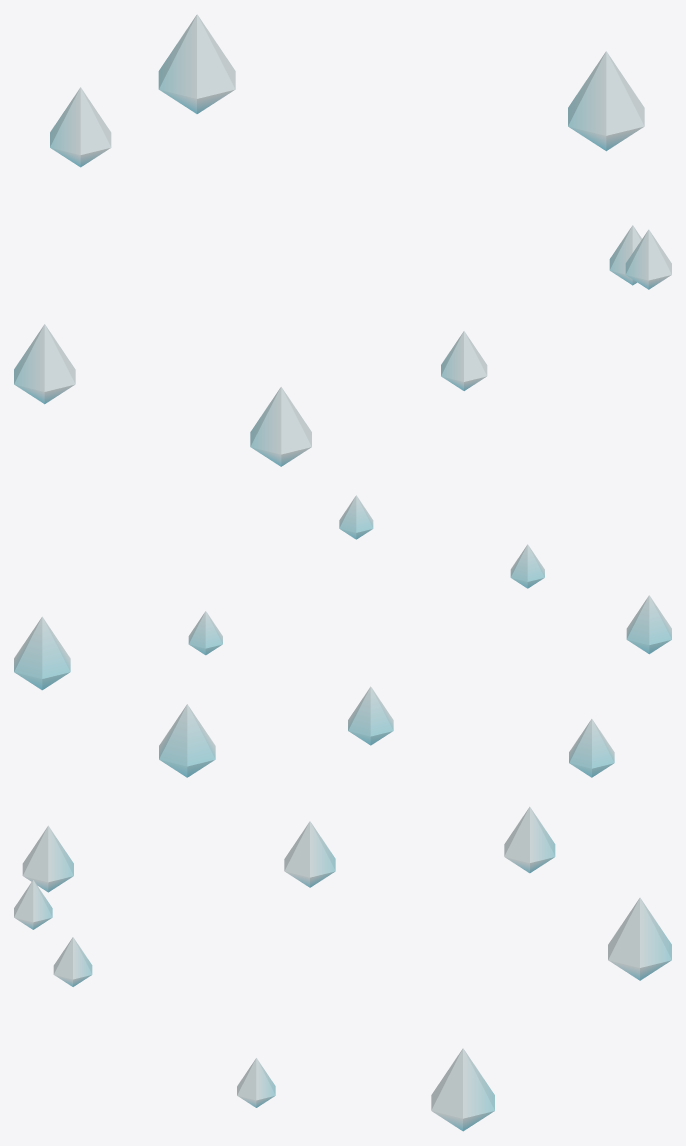
File: GeyserDroplets.glb
3 views of the same model, one above another, from view 1: azimuth 30°, elevation 25°; view 2: azimuth 150°, elevation 25°; view 3: azimuth 270°, elevation 25° (orthographic). The views are drawn at different scales.
Visible parts, largest first — view 1: GeyserDroplets; view 2: GeyserDroplets; view 3: GeyserDroplets.
Boxes of the visible parts, x1,y1,x2,y2 form: GeyserDroplets: (14,14,671,466); GeyserDroplets: (14,495,671,777); GeyserDroplets: (14,806,671,1131).
Bounding box in the file's own units: 1.71 × 0.4075 × 1.62.
